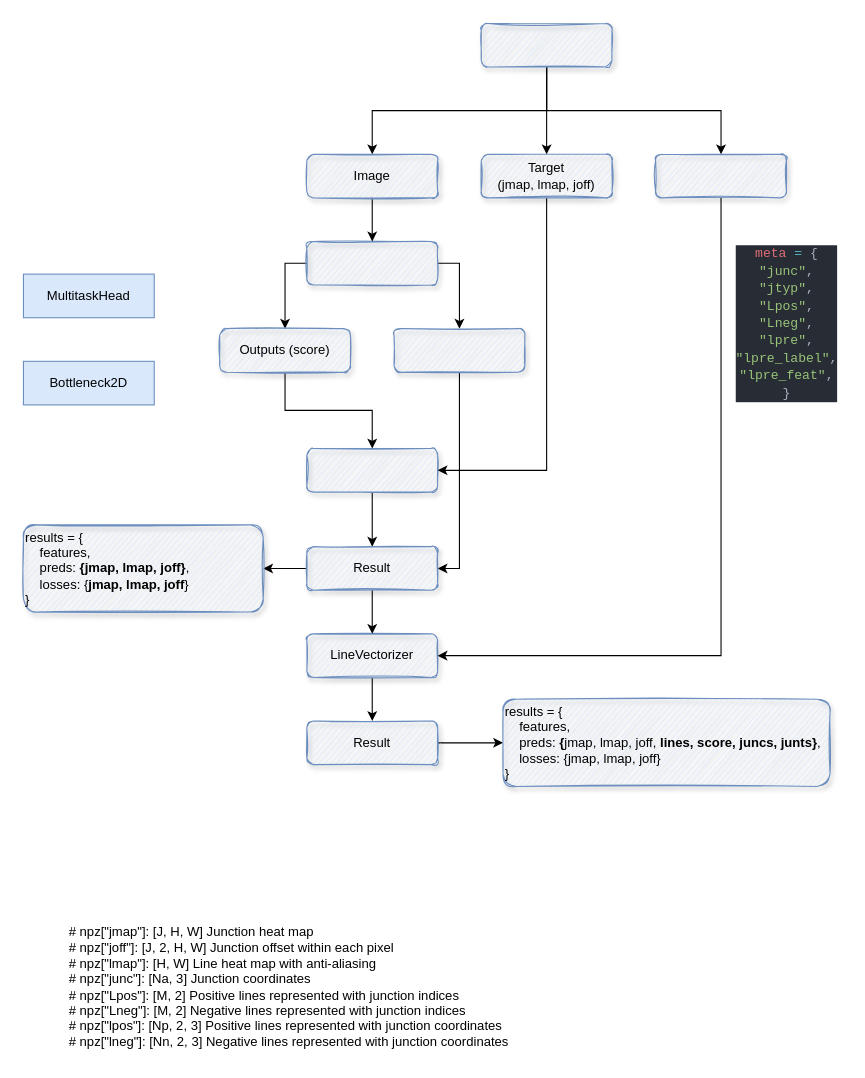
Image size: 865x1078. Some labels were removed from this diagram. Here are the shapes that lost their labels. From the top down, the centre of each, then its label:
At point 547,46: "Input dictionary".
At point 721,177: "Meta".
At point 372,264: "HourglassNet".
At point 460,351: "Features".
At point 372,471: "MultitaskLearner".
